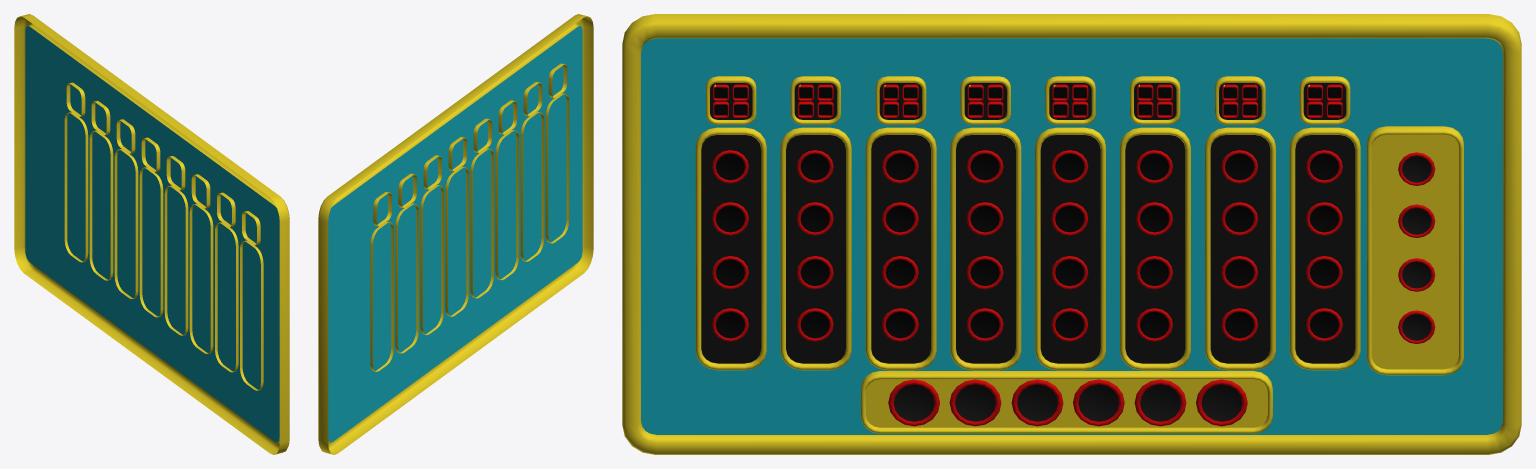
File: Board.fbx
3 views of the same model, side by side, from view 1: azimuth 30°, elevation 25°; view 2: azimuth 150°, elevation 25°; view 3: azimuth 270°, elevation 25° (orthographic). The views are drawn at different scales.
Parts seen in each view (by area): view 1: 对象001; view 2: 对象001; view 3: 对象001.
Boxes of the visible parts, x1,y1,x2,y2 form: 对象001: (14,14,289,454); 对象001: (318,14,593,454); 对象001: (622,14,1521,454).
Size of the model in its own units: 0.5972 by 12.75 by 23.98.
